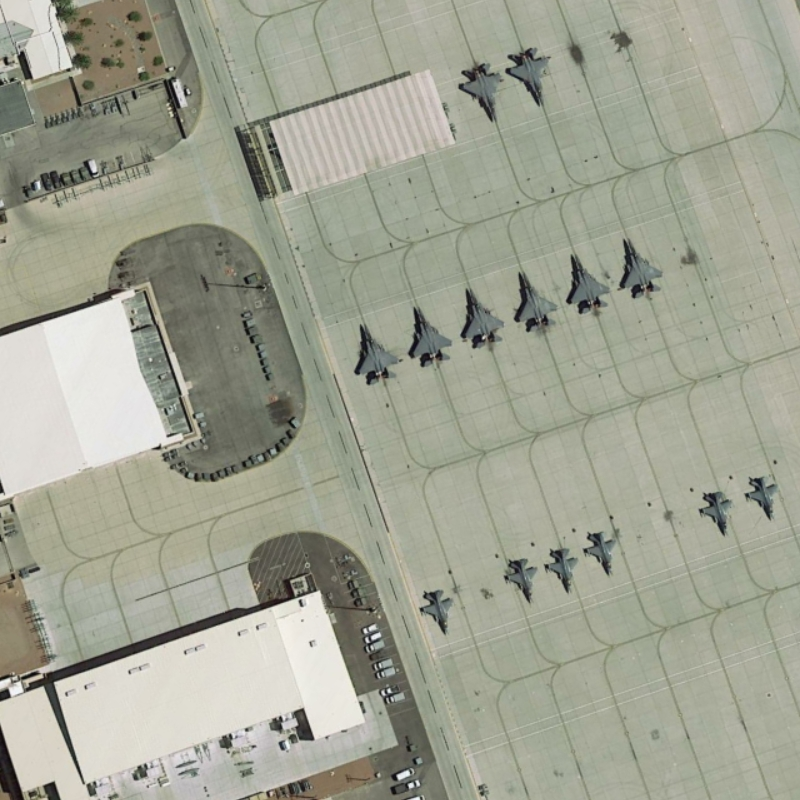A13: (351, 318, 404, 387), (511, 267, 560, 336), (407, 303, 456, 371), (563, 250, 613, 316), (619, 235, 666, 302), (459, 283, 506, 350), (458, 61, 506, 126), (506, 45, 553, 107)
A5: (503, 555, 541, 607), (417, 586, 455, 638), (698, 487, 735, 539), (545, 545, 581, 597), (744, 473, 780, 524), (582, 530, 620, 577)
